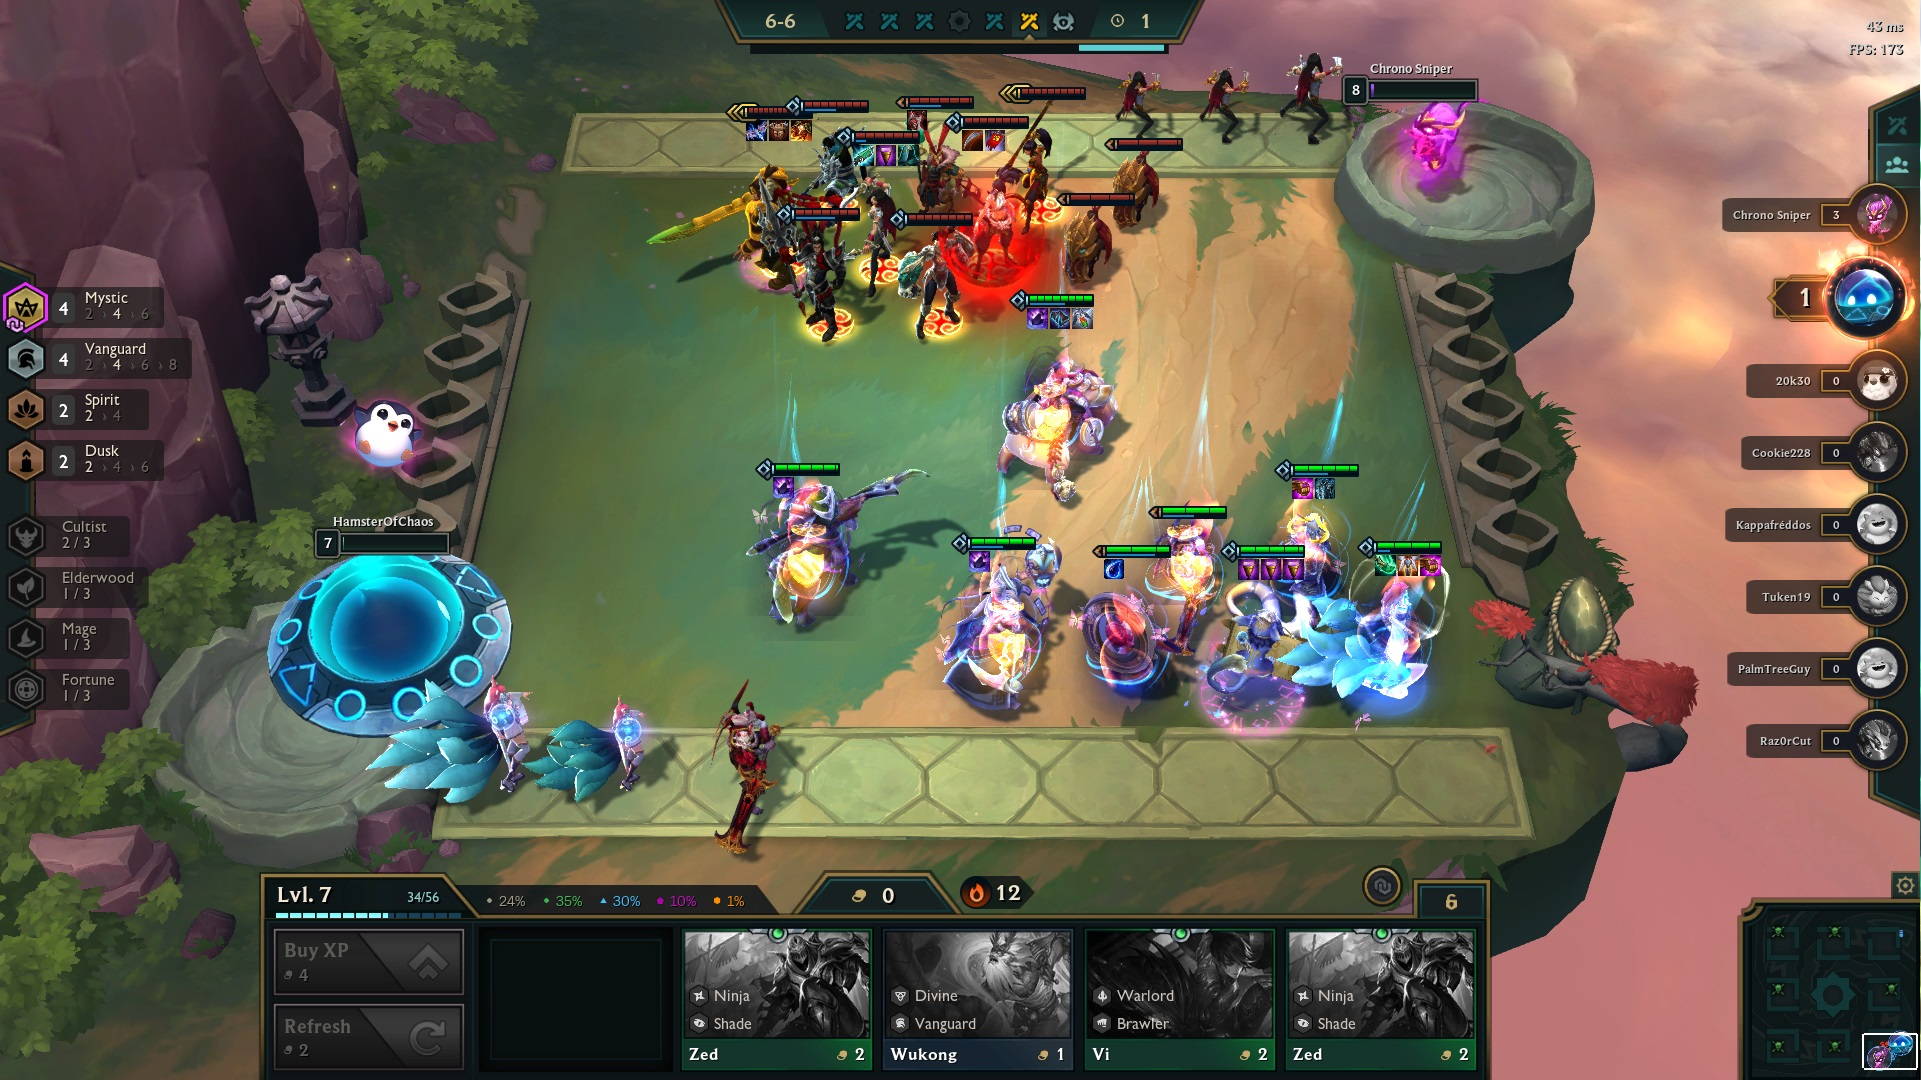1star_azir: (889, 86, 983, 244)
1star_azirsoldier: (1049, 186, 1143, 291), (1099, 127, 1191, 232)
2star_akali: (935, 111, 1044, 291)
2star_jarvaniv: (764, 199, 879, 359)
2star_katarina: (829, 125, 928, 305)
2star_vi: (884, 204, 984, 357)
2star_xinzhao: (784, 90, 876, 240)
3star_garen: (643, 95, 826, 311)
3star_nidalee: (988, 82, 1096, 235)
item_bramble: (763, 116, 792, 144)
item_chalice: (1278, 554, 1306, 584), (1234, 553, 1261, 582), (873, 140, 898, 171), (1256, 553, 1282, 582)
item_dclaw: (959, 127, 988, 154)
item_fon: (1311, 469, 1339, 504)
item_ga: (1395, 547, 1422, 580)
item_gunblade: (848, 140, 877, 169)
item_jeweledgauntlet: (1414, 547, 1447, 582), (1286, 471, 1318, 502)
item_morello: (1044, 301, 1074, 332)
item_quicksilver: (895, 135, 928, 169)
item_redemption: (1069, 301, 1096, 331)
item_shojin: (1371, 547, 1401, 579)
item_spark: (741, 113, 776, 145)
item_sunfire: (784, 115, 819, 146)
item_tear: (1098, 553, 1128, 582)
item_warlord: (982, 127, 1008, 154)
item_zeke: (902, 105, 931, 135)
item_zzrot: (767, 469, 800, 501), (963, 545, 996, 575), (1021, 301, 1054, 331)
trait_cultist2: (1, 502, 199, 560)
trait_dusk2: (1, 429, 199, 487)
trait_elderwood1: (1, 553, 199, 611)
trait_fortune1: (1, 657, 199, 715)
trait_mage1: (1, 604, 199, 662)
trait_mystic4: (1, 277, 199, 335)
trait_mystic_chosen: (1, 277, 51, 334)
trait_spirit2: (1, 378, 199, 436)
trait_vanguard4: (1, 327, 199, 385)
